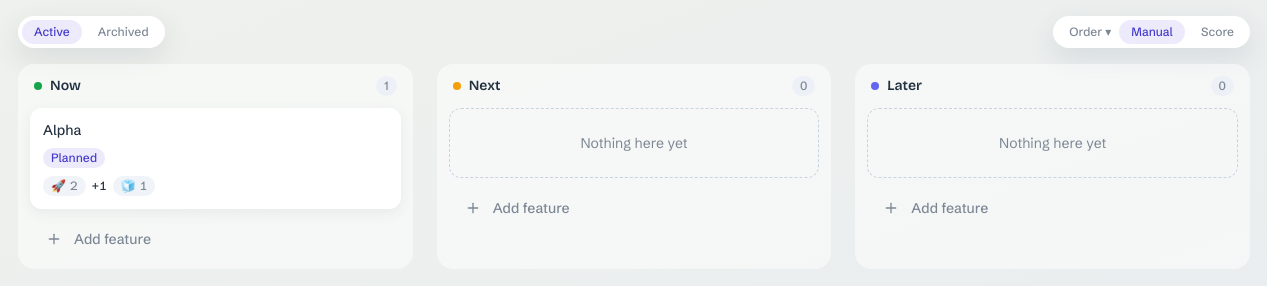
Scenario: VoteWidget on board cards › voting boost is optimistic, then confirmed by the server
Click the button named "boost" at (64, 186), box [43,176,86,196]
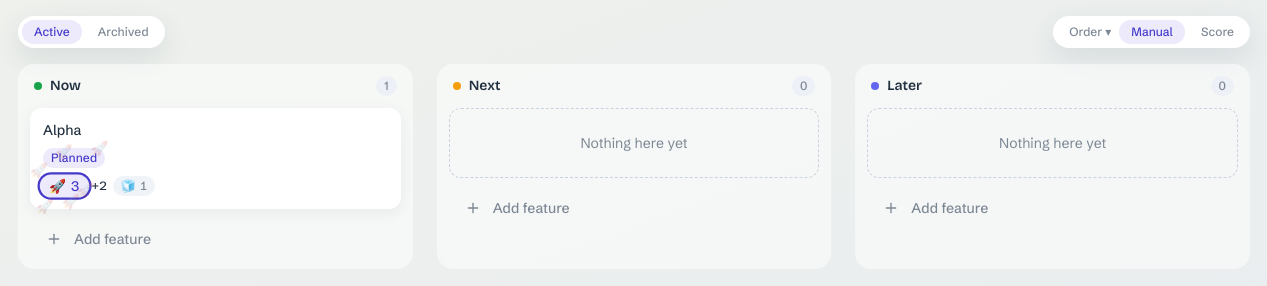
expect the button named "boost" shows "3": met, box [40,175,89,198]
expect the text with test id "vote-score" reads "+2": met, box [92,178,107,193]
